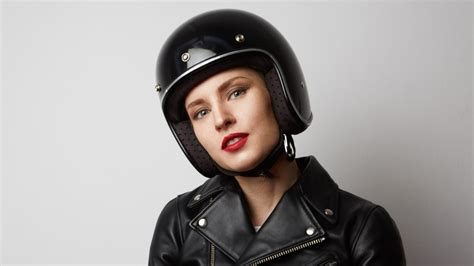com_capacete: (154, 9, 314, 184)
